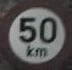Speed limit: (0, 7, 65, 60)
